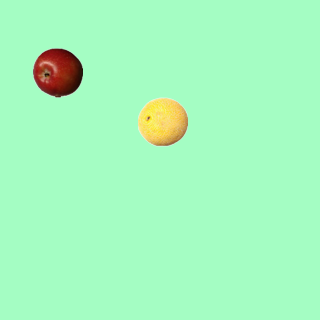Apple Braeburn: (32, 47, 82, 97)
Cantaloupe 1: (137, 96, 187, 146)
